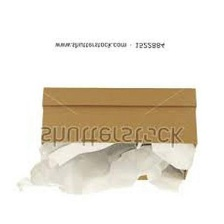book: (35, 82, 202, 184)
tissue: (7, 133, 203, 204)
